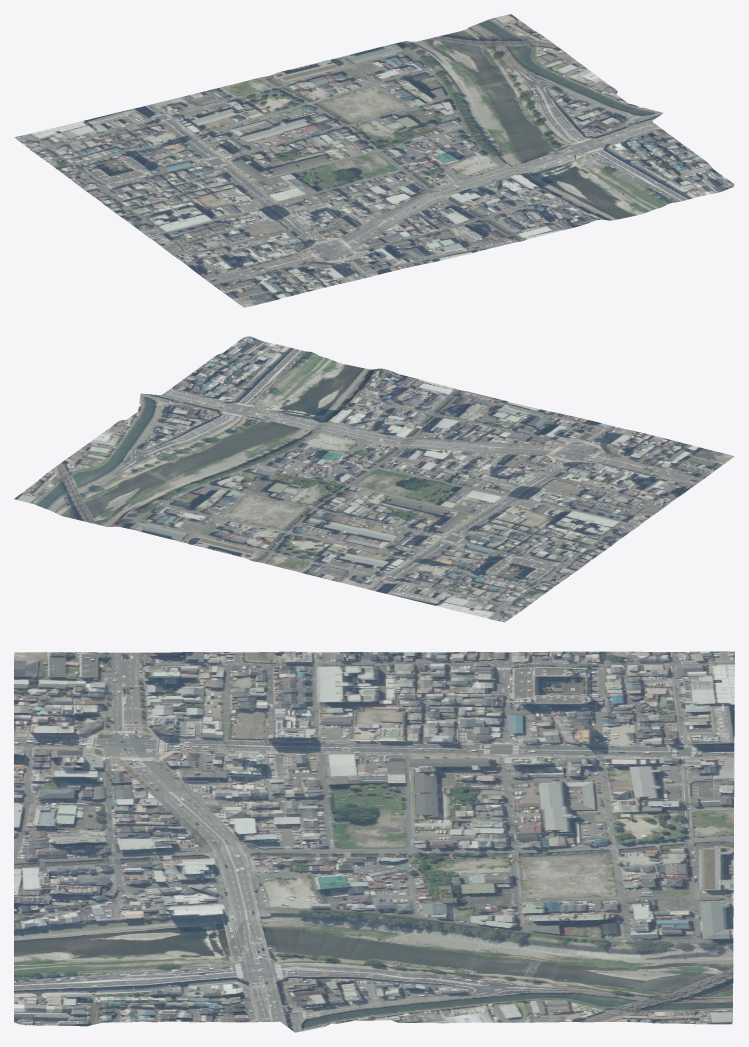
Rendered from ground52353671.glb.
3 views of the same model, one above another, from view 1: azimuth 30°, elevation 25°; view 2: azimuth 150°, elevation 25°; view 3: azimuth 270°, elevation 25° (orthographic). The views are drawn at different scales.
Parts seen in each view (by area): view 1: dem_00dd11fc-0b20-49c4-b1b3-b60b6fbbde63; view 2: dem_00dd11fc-0b20-49c4-b1b3-b60b6fbbde63; view 3: dem_00dd11fc-0b20-49c4-b1b3-b60b6fbbde63.
Boxes of the visible parts, x1=… form: dem_00dd11fc-0b20-49c4-b1b3-b60b6fbbde63: x1=14, y1=14, x2=734, y2=307; dem_00dd11fc-0b20-49c4-b1b3-b60b6fbbde63: x1=14, y1=336, x2=734, y2=622; dem_00dd11fc-0b20-49c4-b1b3-b60b6fbbde63: x1=14, y1=651, x2=734, y2=1032.
Bounding box in the file's own units: 620 × 10.52 × 487.
Materials: 1 (1 with a texture image).
